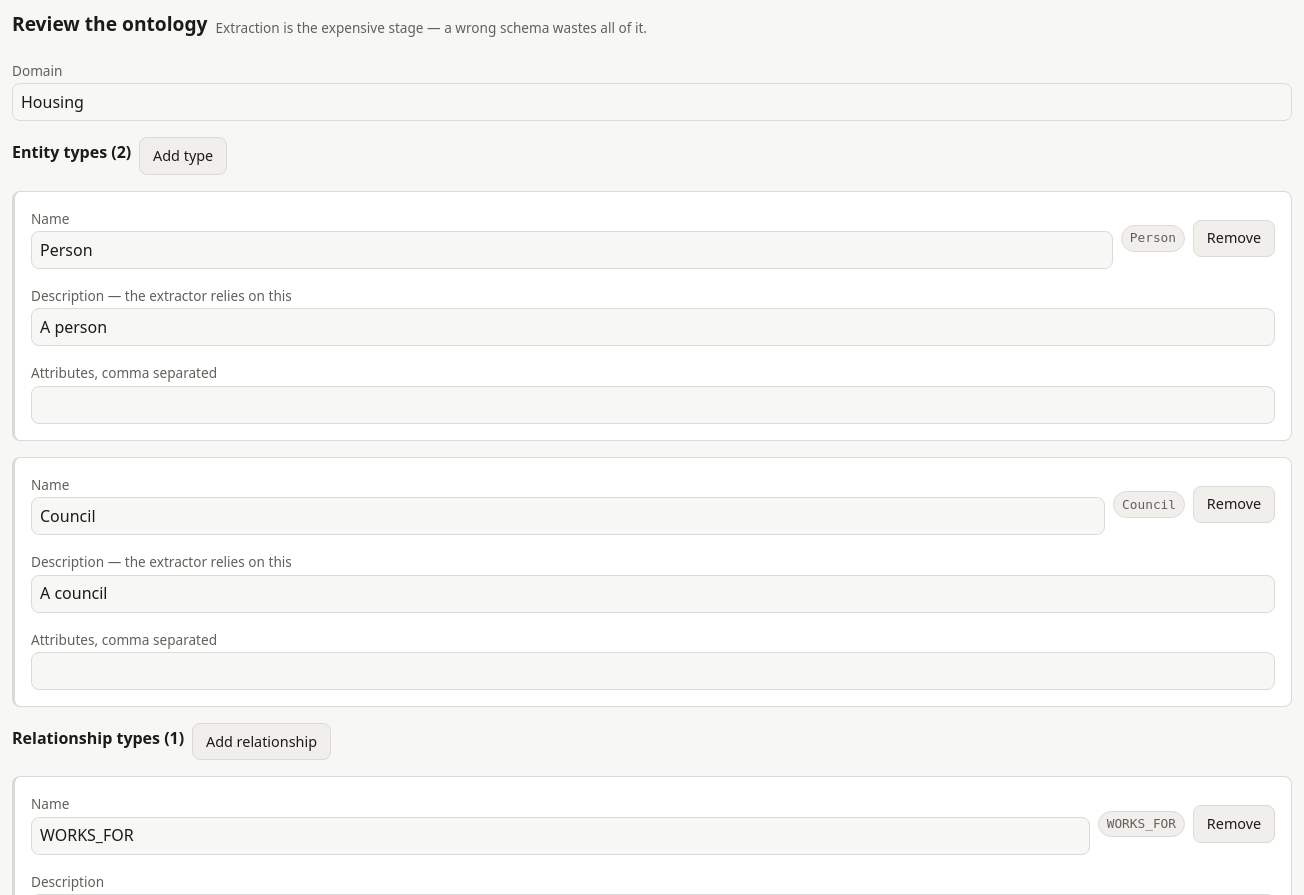
OntologyEditor › SHOWS WHAT A TYPED NAME WILL BECOME, BEFORE IT IS SUBMITTED
Replace the text in the 1st field labelled "Name" with "Public Figure": {"x": 572, "y": 250} x1=31 y1=231 x2=1113 y2=269
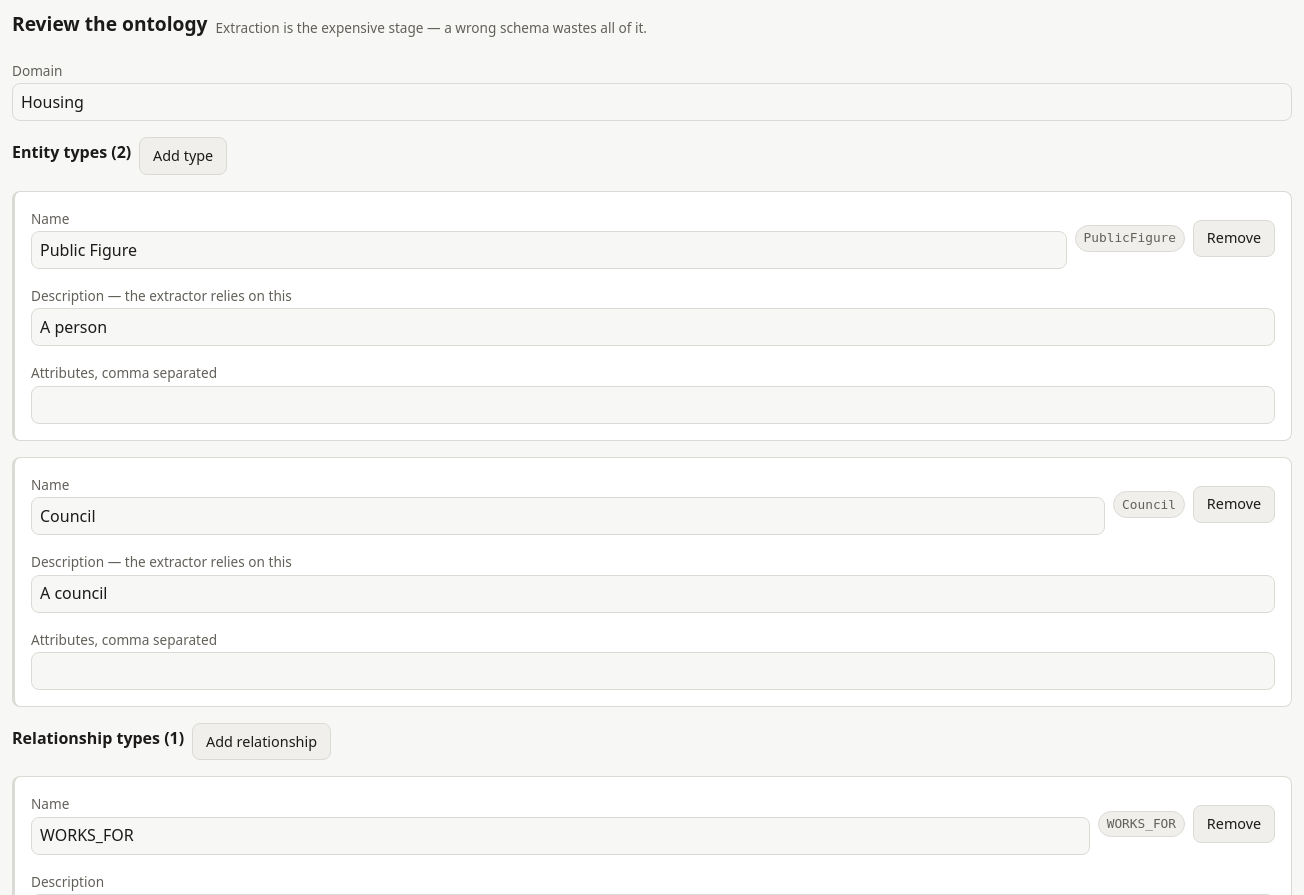
Expected: the text with class "identifier" reads "PublicFigure", x1=1084 y1=230 x2=1176 y2=245
